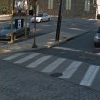crosswalk: (2, 52, 100, 85)
